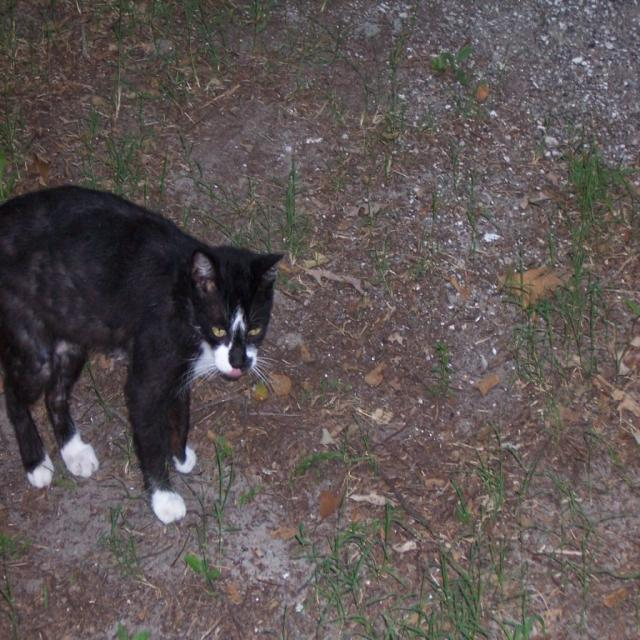Cat: (0, 182, 286, 525)
